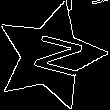N_W: (19, 30, 81, 82)
